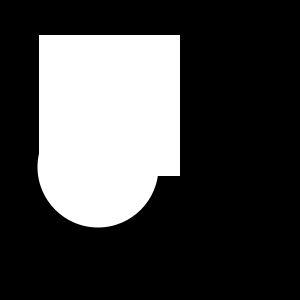circle: (39, 35, 180, 176)
rectangle: (38, 106, 158, 228)
